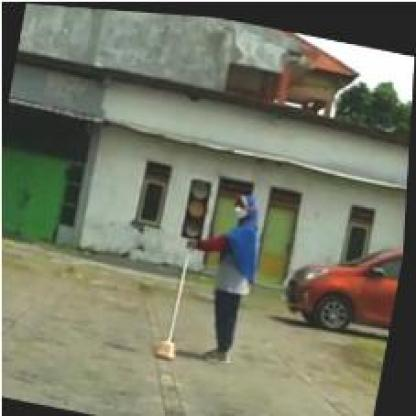yellow: (182, 174, 214, 237)
